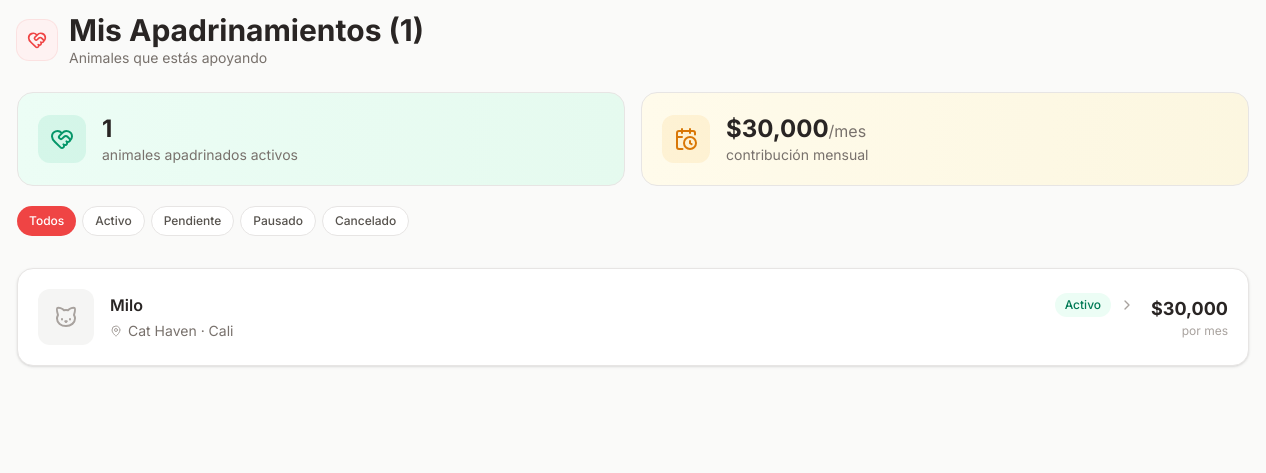
Test case: MisApadrinamientosPage › shows empty filter state and clear button when filter matches nothing
# Click "Cancelado" filter - no sponsorships match
Click the button "Cancelado". click: (366, 221)
box: [322, 206, 409, 236]
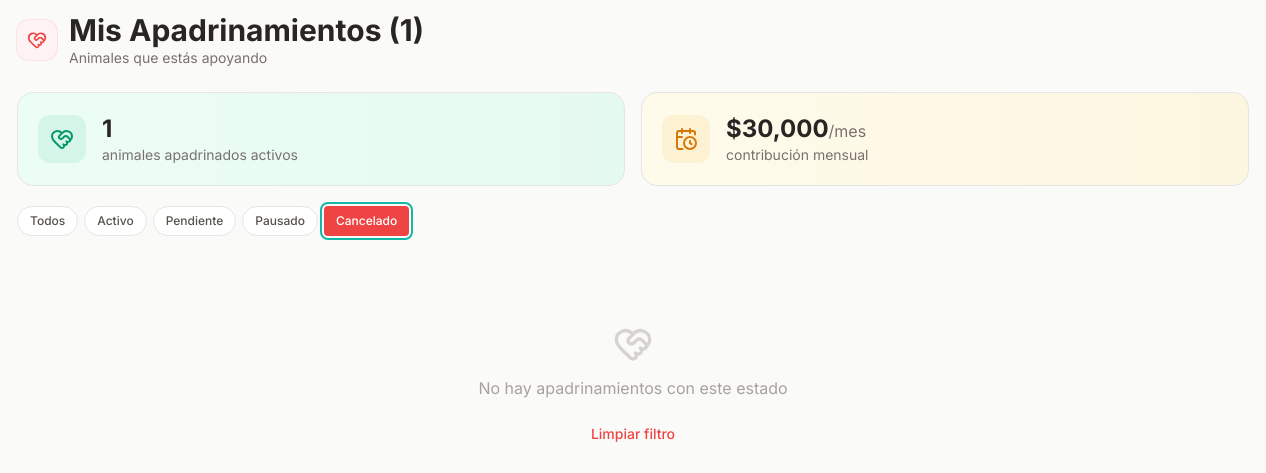
Check: the text "No hay apadrinamientos con este estado" is shown, box [478, 378, 788, 398]
# Click clear filter
Click the button "Limpiar filtro". click: (633, 434)
box: [591, 412, 675, 456]
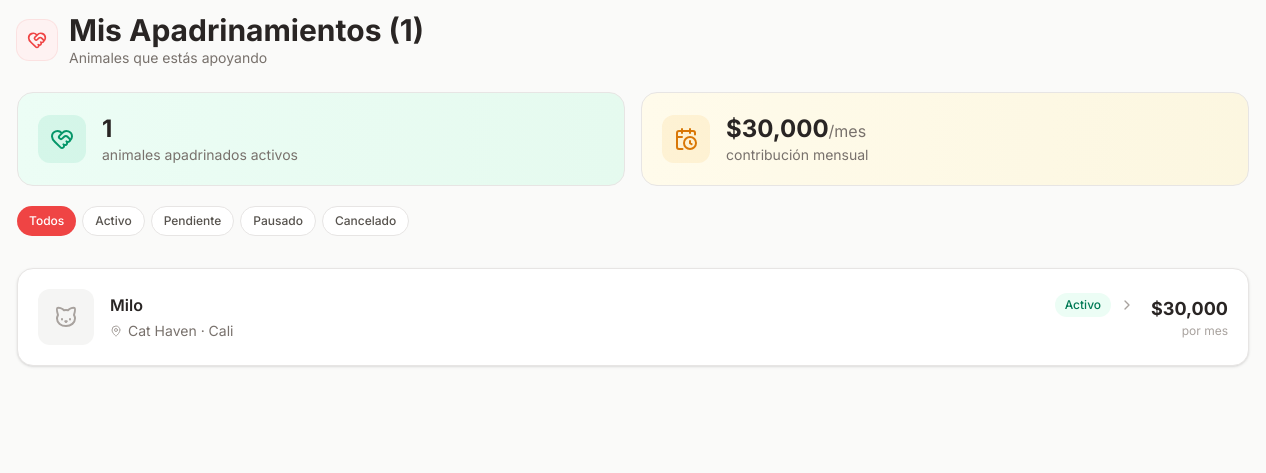
Check: the heading "Milo" is shown, box [110, 293, 143, 317]
